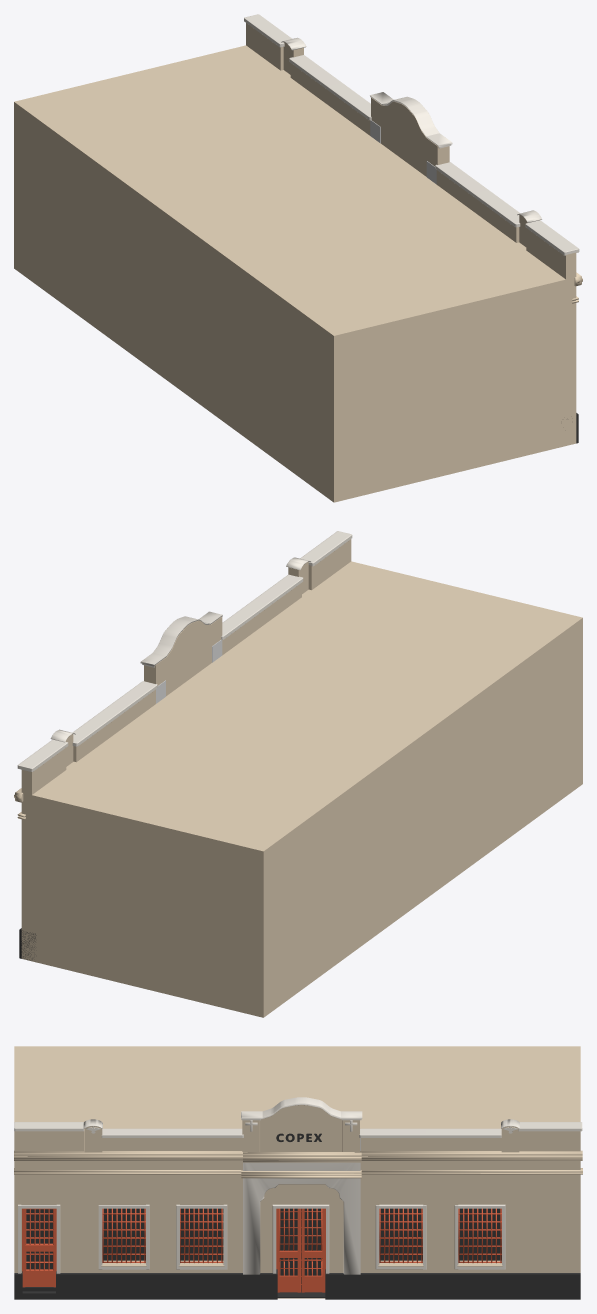
File: copex.glb
3 renders of one model, top to bottom at view 1: azimuth 30°, elevation 25°; view 2: azimuth 150°, elevation 25°; view 3: azimuth 270°, elevation 25°, orthographic. The views are drawn at different scales.
Visible parts, largest first — view 1: Cube, Cube.012, Cube.060, Cube.059, Cube.001, Cube.004, Cube.013, Cube.052, Cube.014, Cube.057, Cube.058; view 2: Cube, Cube.012, Cube.059, Cube.060, Cube.004, Cube.001, Cube.052, Cube.014, Cube.013, Cube.057, Cube.058; view 3: Cube, Cube.009, Cube.021, Cube.031, Cube.039, Cube.008, Cube.012, Cube.030, Cube.004, Cube.001, Cube.013, Cylinder.002 (+21 smaller).
Part boxes in pixels (x1=…): Cube: x1=14, y1=45, x2=576, y2=502; Cube.012: x1=371, y1=97, x2=447, y2=176; Cube.060: x1=435, y1=162, x2=520, y2=227; Cube.059: x1=289, y1=55, x2=371, y2=120; Cube.001: x1=436, y1=170, x2=519, y2=242; Cube.004: x1=290, y1=63, x2=370, y2=135; Cube.013: x1=526, y1=228, x2=576, y2=281; Cube.052: x1=370, y1=92, x2=452, y2=147; Cube.014: x1=246, y1=23, x2=283, y2=70; Cube.057: x1=525, y1=220, x2=579, y2=255; Cube.058: x1=244, y1=14, x2=292, y2=47; Cube: x1=21, y1=561, x2=582, y2=1017; Cube.012: x1=145, y1=617, x2=222, y2=696; Cube.059: x1=72, y1=681, x2=157, y2=746; Cube.060: x1=221, y1=574, x2=303, y2=639; Cube.004: x1=73, y1=689, x2=155, y2=762; Cube.001: x1=222, y1=583, x2=301, y2=655; Cube.052: x1=140, y1=611, x2=222, y2=666; Cube.014: x1=21, y1=748, x2=66, y2=795; Cube.013: x1=308, y1=539, x2=351, y2=590; Cube.057: x1=300, y1=531, x2=352, y2=566; Cube.058: x1=17, y1=739, x2=68, y2=771; Cube: x1=14, y1=1046, x2=580, y2=1298; Cube.009: x1=325, y1=1269, x2=580, y2=1299; Cube.021: x1=56, y1=1269, x2=277, y2=1299; Cube.031: x1=14, y1=1150, x2=582, y2=1162; Cube.039: x1=18, y1=1204, x2=505, y2=1273; Cube.008: x1=243, y1=1162, x2=360, y2=1274; Cube.012: x1=260, y1=1105, x2=341, y2=1151; Cube.030: x1=14, y1=1168, x2=582, y2=1178; Cube.004: x1=360, y1=1138, x2=501, y2=1150; Cube.001: x1=102, y1=1138, x2=242, y2=1150; Cube.013: x1=14, y1=1131, x2=84, y2=1151; Cylinder.002: x1=102, y1=1208, x2=145, y2=1263.
Bounding box in the file's own units: 7.27 × 6.15 × 16.08.
